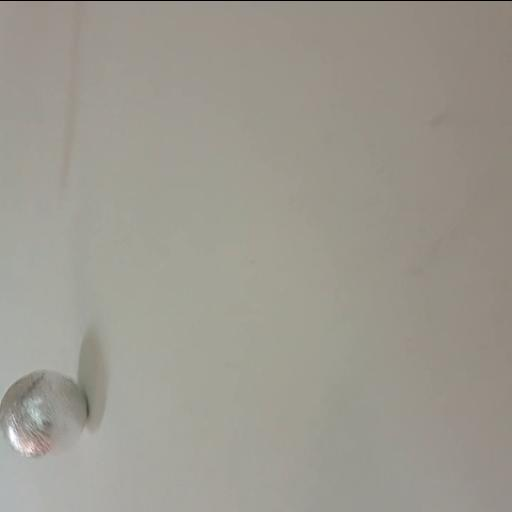alive: (0, 366, 91, 464)
